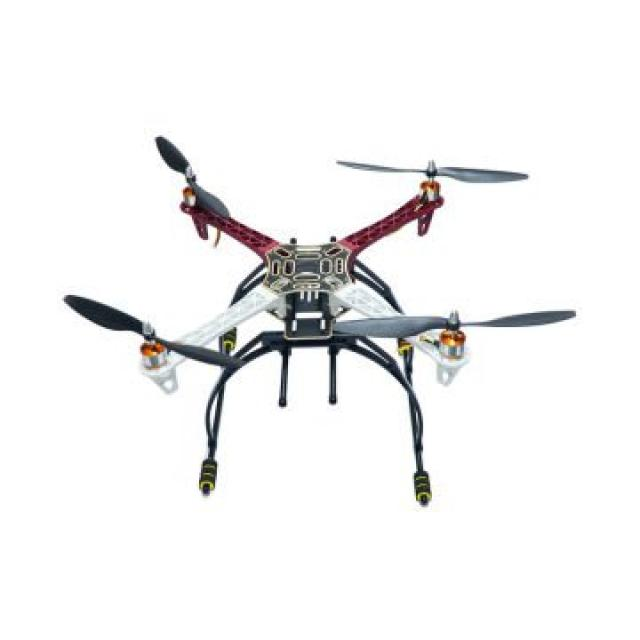drone: (45, 136, 576, 528)
